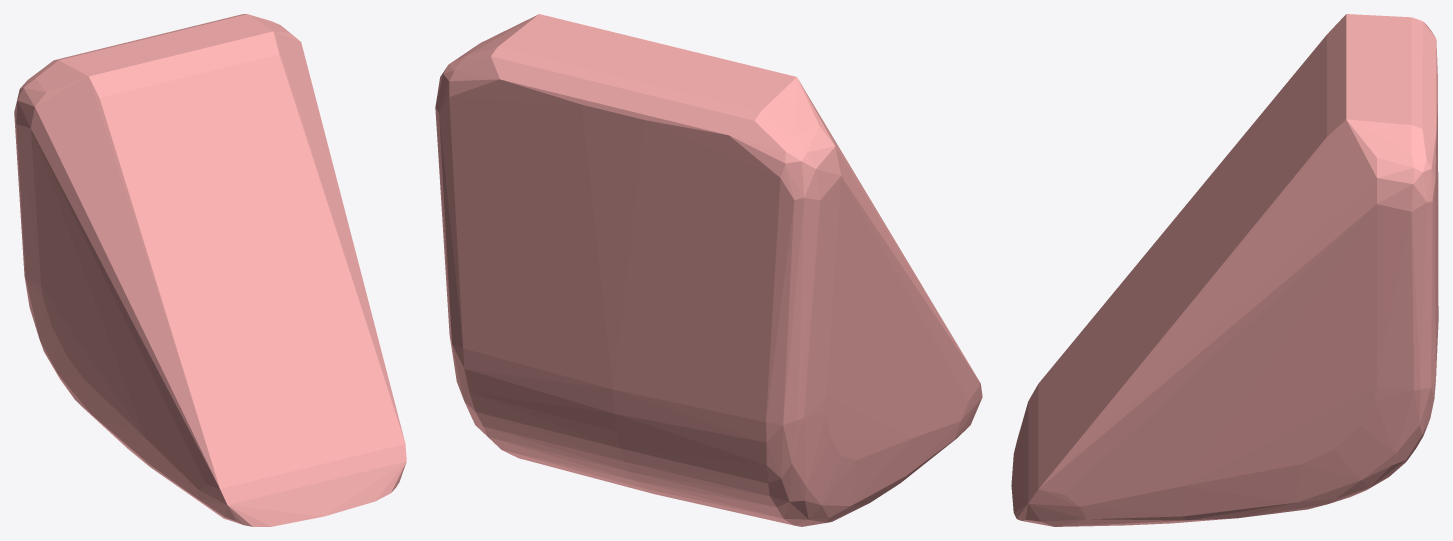
File: Franka_FrankaGripper_coll_2.dae
3 renders of one model, left to right at view 1: azimuth 30°, elevation 25°; view 2: azimuth 150°, elevation 25°; view 3: azimuth 270°, elevation 25°, orthographic. The views are drawn at different scales.
Visible parts, largest first — view 1: node; view 2: node; view 3: node.
Boxes of the visible parts, x1,y1,x2,y2 form: node: (14,14,406,526); node: (435,14,982,526); node: (1011,14,1438,526).
Size of the model in its own units: 0.0572 by 0.0713 by 0.0659.
